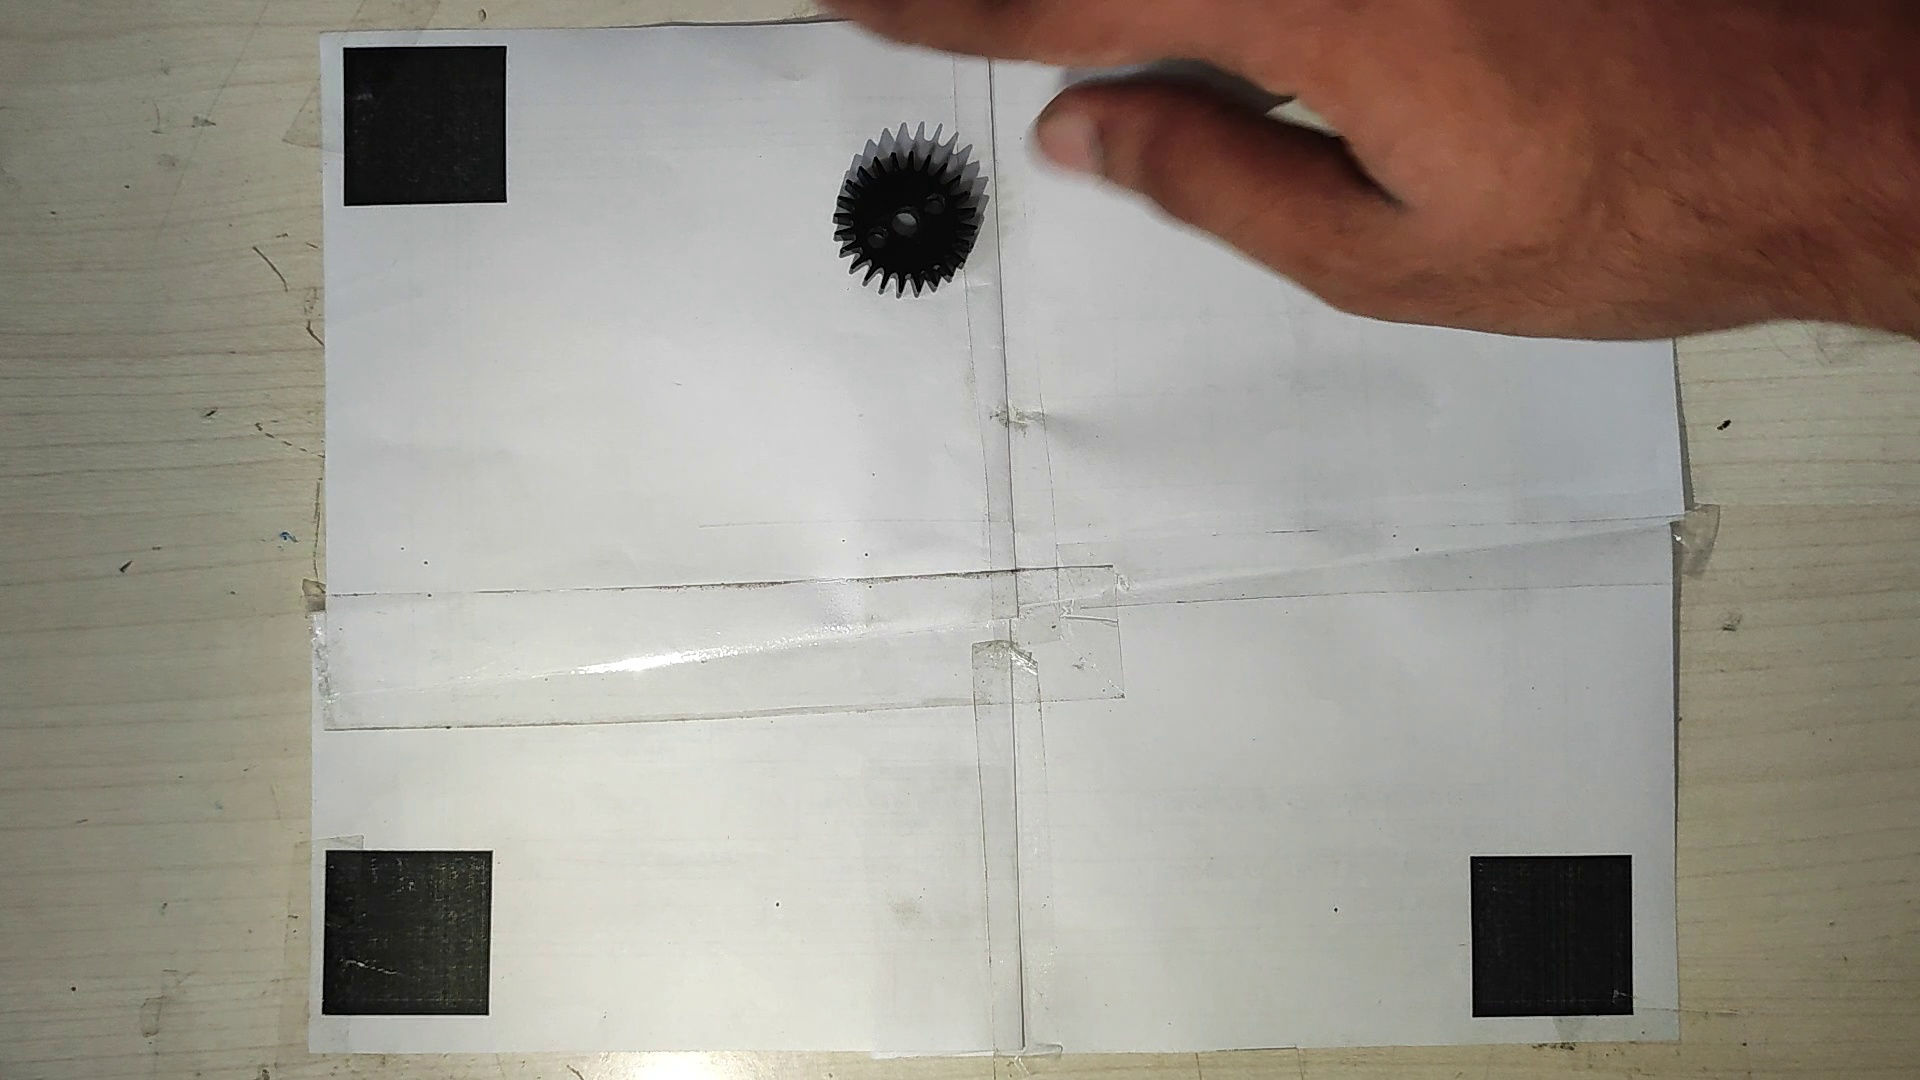Gear: (830, 144, 991, 296)
